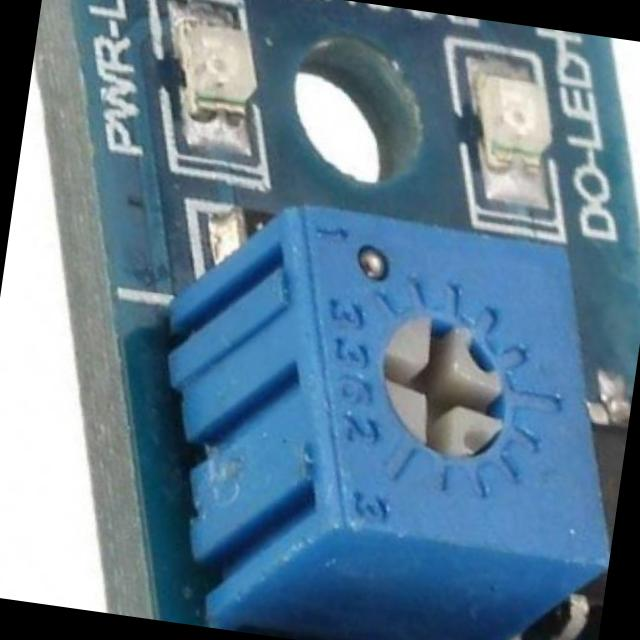LED: (163, 8, 266, 113), (472, 63, 565, 169)
potentiometer: (178, 176, 640, 621)
